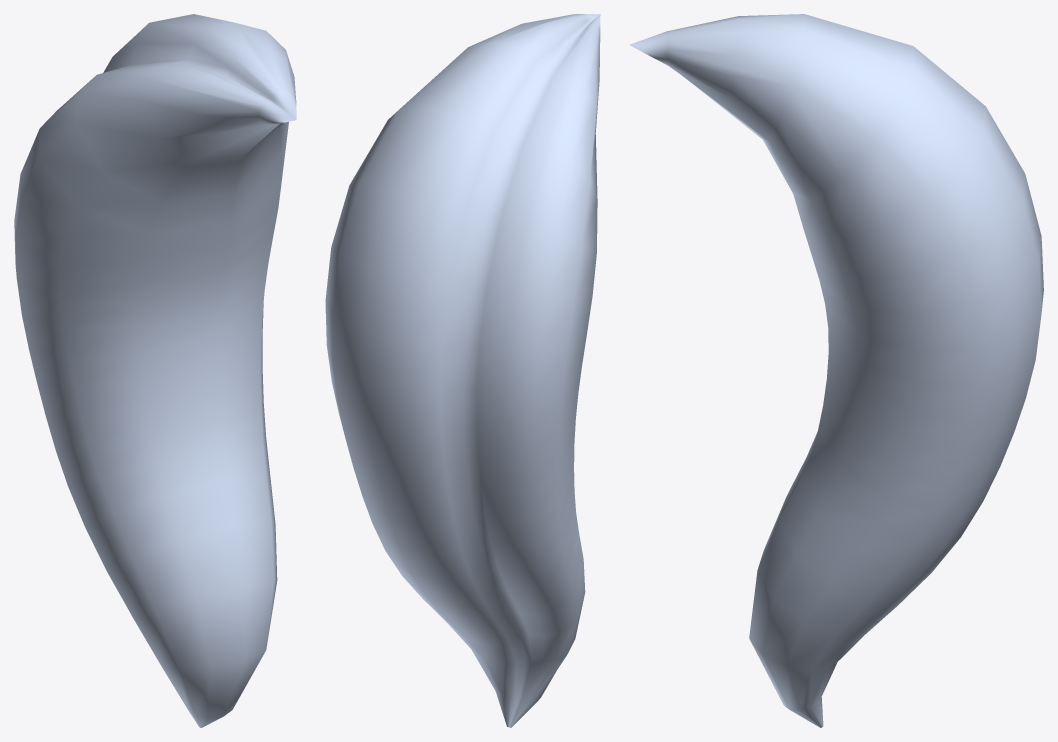
The model's file is 10_back_pony_pointed_low.fbx.
3 renders of one model, left to right at view 1: azimuth 30°, elevation 25°; view 2: azimuth 150°, elevation 25°; view 3: azimuth 270°, elevation 25°, orthographic. The views are drawn at different scales.
Parts seen in each view (by area): view 1: 10_back_pony_pointed_low; view 2: 10_back_pony_pointed_low; view 3: 10_back_pony_pointed_low.
Part boxes in pixels (left/top/right/bottom): 10_back_pony_pointed_low: left=14, top=14, right=296, bottom=727; 10_back_pony_pointed_low: left=325, top=14, right=600, bottom=727; 10_back_pony_pointed_low: left=629, top=14, right=1043, bottom=727.
Bounding box in the file's own units: 46.69 × 129 × 68.28.
